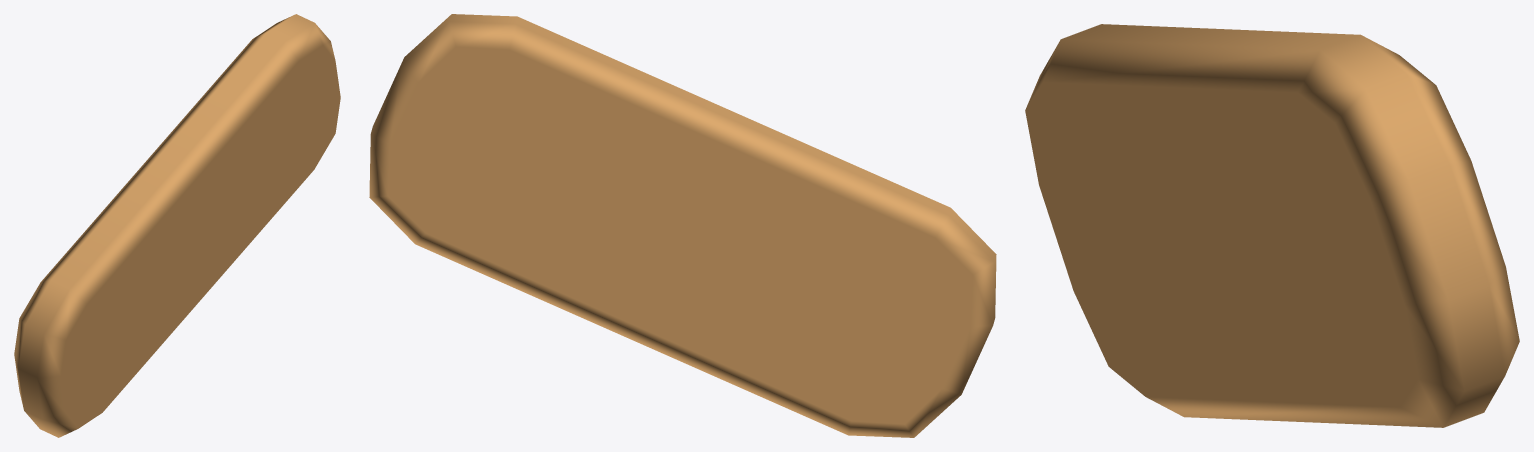
File: bandage.glb
3 views of the same model, side by side, from view 1: azimuth 30°, elevation 25°; view 2: azimuth 150°, elevation 25°; view 3: azimuth 270°, elevation 25° (orthographic). The views are drawn at different scales.
Visible parts, largest first — view 1: bandage_Head; view 2: bandage_Head; view 3: bandage_Head.
Part boxes in pixels (x1,y1,x2,y2): bandage_Head: (14,14,340,437); bandage_Head: (369,14,996,437); bandage_Head: (1025,24,1519,427).
Size of the model in its own units: 0.082 by 0.0579 by 0.0432.
